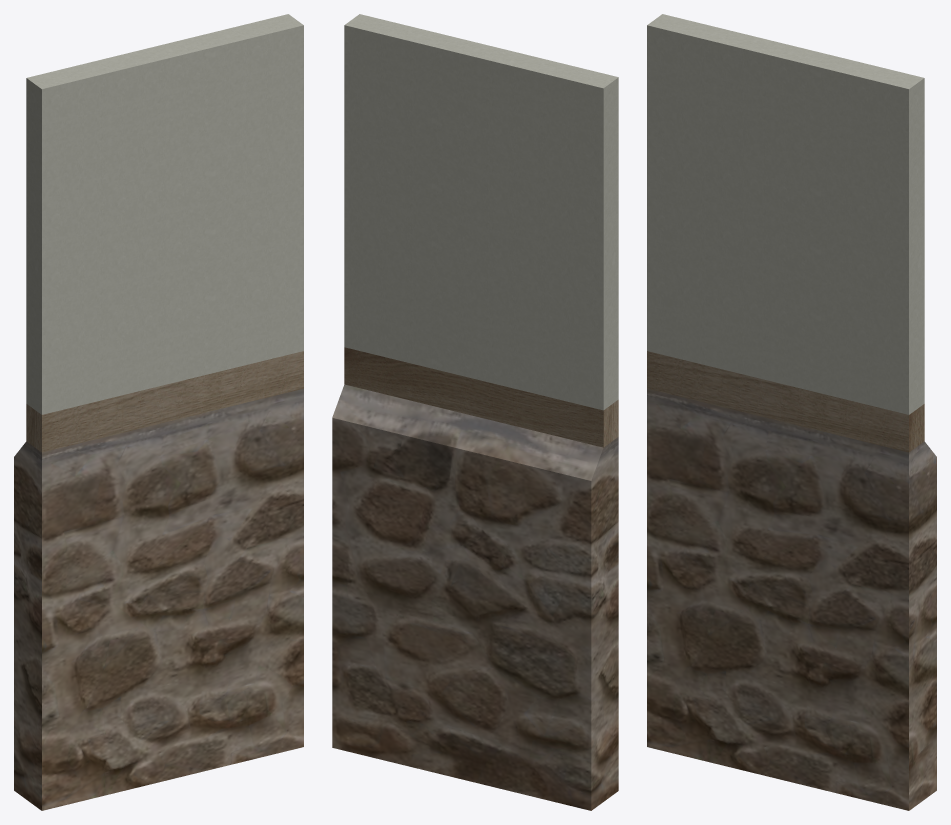
The model's file is SM_Sun_Toilet_Wall_E.fbx.
3 renders of one model, left to right at view 1: azimuth 30°, elevation 25°; view 2: azimuth 150°, elevation 25°; view 3: azimuth 330°, elevation 25°, orthographic.
Visible parts, largest first — view 1: SM_Sun_Toilet_Wall_E; view 2: SM_Sun_Toilet_Wall_E; view 3: SM_Sun_Toilet_Wall_E.
Boxes of the visible parts, x1,y1,x2,y2 form: SM_Sun_Toilet_Wall_E: (14,14,303,810); SM_Sun_Toilet_Wall_E: (332,14,618,810); SM_Sun_Toilet_Wall_E: (647,14,936,810).
Bounding box in the file's own units: 97.94 × 258 × 18.
